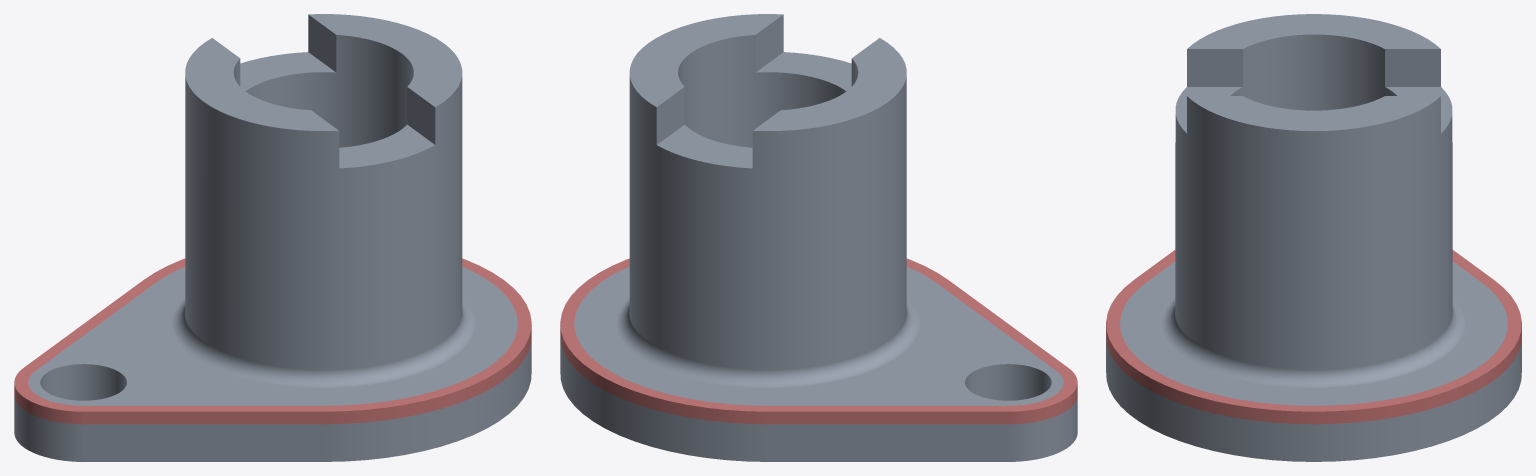
The model's file is step_07.glb.
The picture shows the model from 3 angles, left to right: view 1: azimuth 30°, elevation 25°; view 2: azimuth 150°, elevation 25°; view 3: azimuth 270°, elevation 25°; orthographic projection.
Parts seen in each view (by area): view 1: part__slotted boss flange, removed__slotted boss flange; view 2: part__slotted boss flange, removed__slotted boss flange; view 3: part__slotted boss flange, removed__slotted boss flange.
Boxes of the visible parts, bbox=[...] form: part__slotted boss flange: bbox=[14, 14, 531, 461]; removed__slotted boss flange: bbox=[14, 258, 531, 424]; part__slotted boss flange: bbox=[560, 14, 1077, 461]; removed__slotted boss flange: bbox=[560, 258, 1077, 424]; part__slotted boss flange: bbox=[1106, 14, 1521, 461]; removed__slotted boss flange: bbox=[1106, 250, 1521, 424].
Size of the model in its own units: 79.99 by 48 by 59.98.
